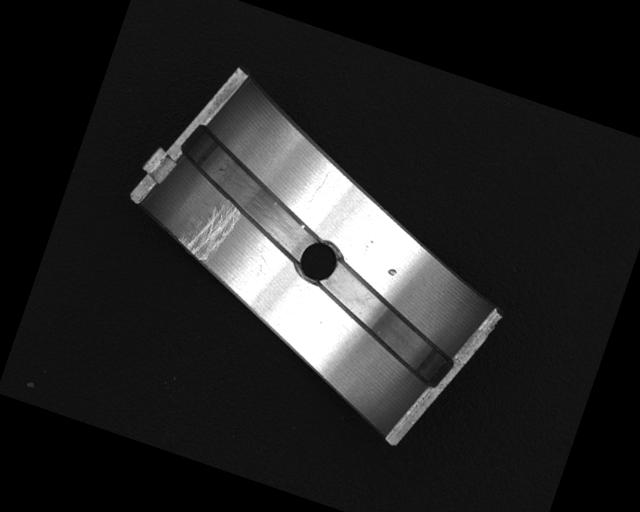bruise: (386, 265, 399, 278)
gap: (162, 122, 340, 263), (302, 262, 469, 389)
hole: (294, 234, 344, 287)
nick: (308, 165, 331, 205)
scratch: (176, 190, 243, 268)
